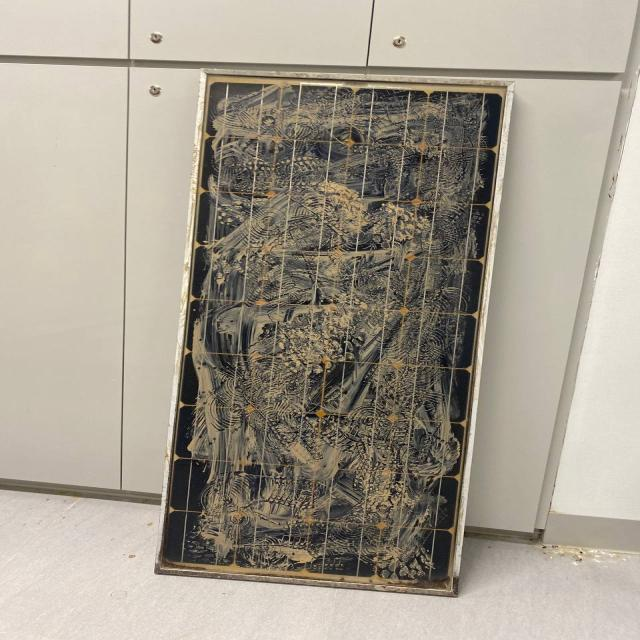Anomaly Solar Panel: (156, 74, 505, 592)
Surface Contaminant: (158, 79, 506, 592)
